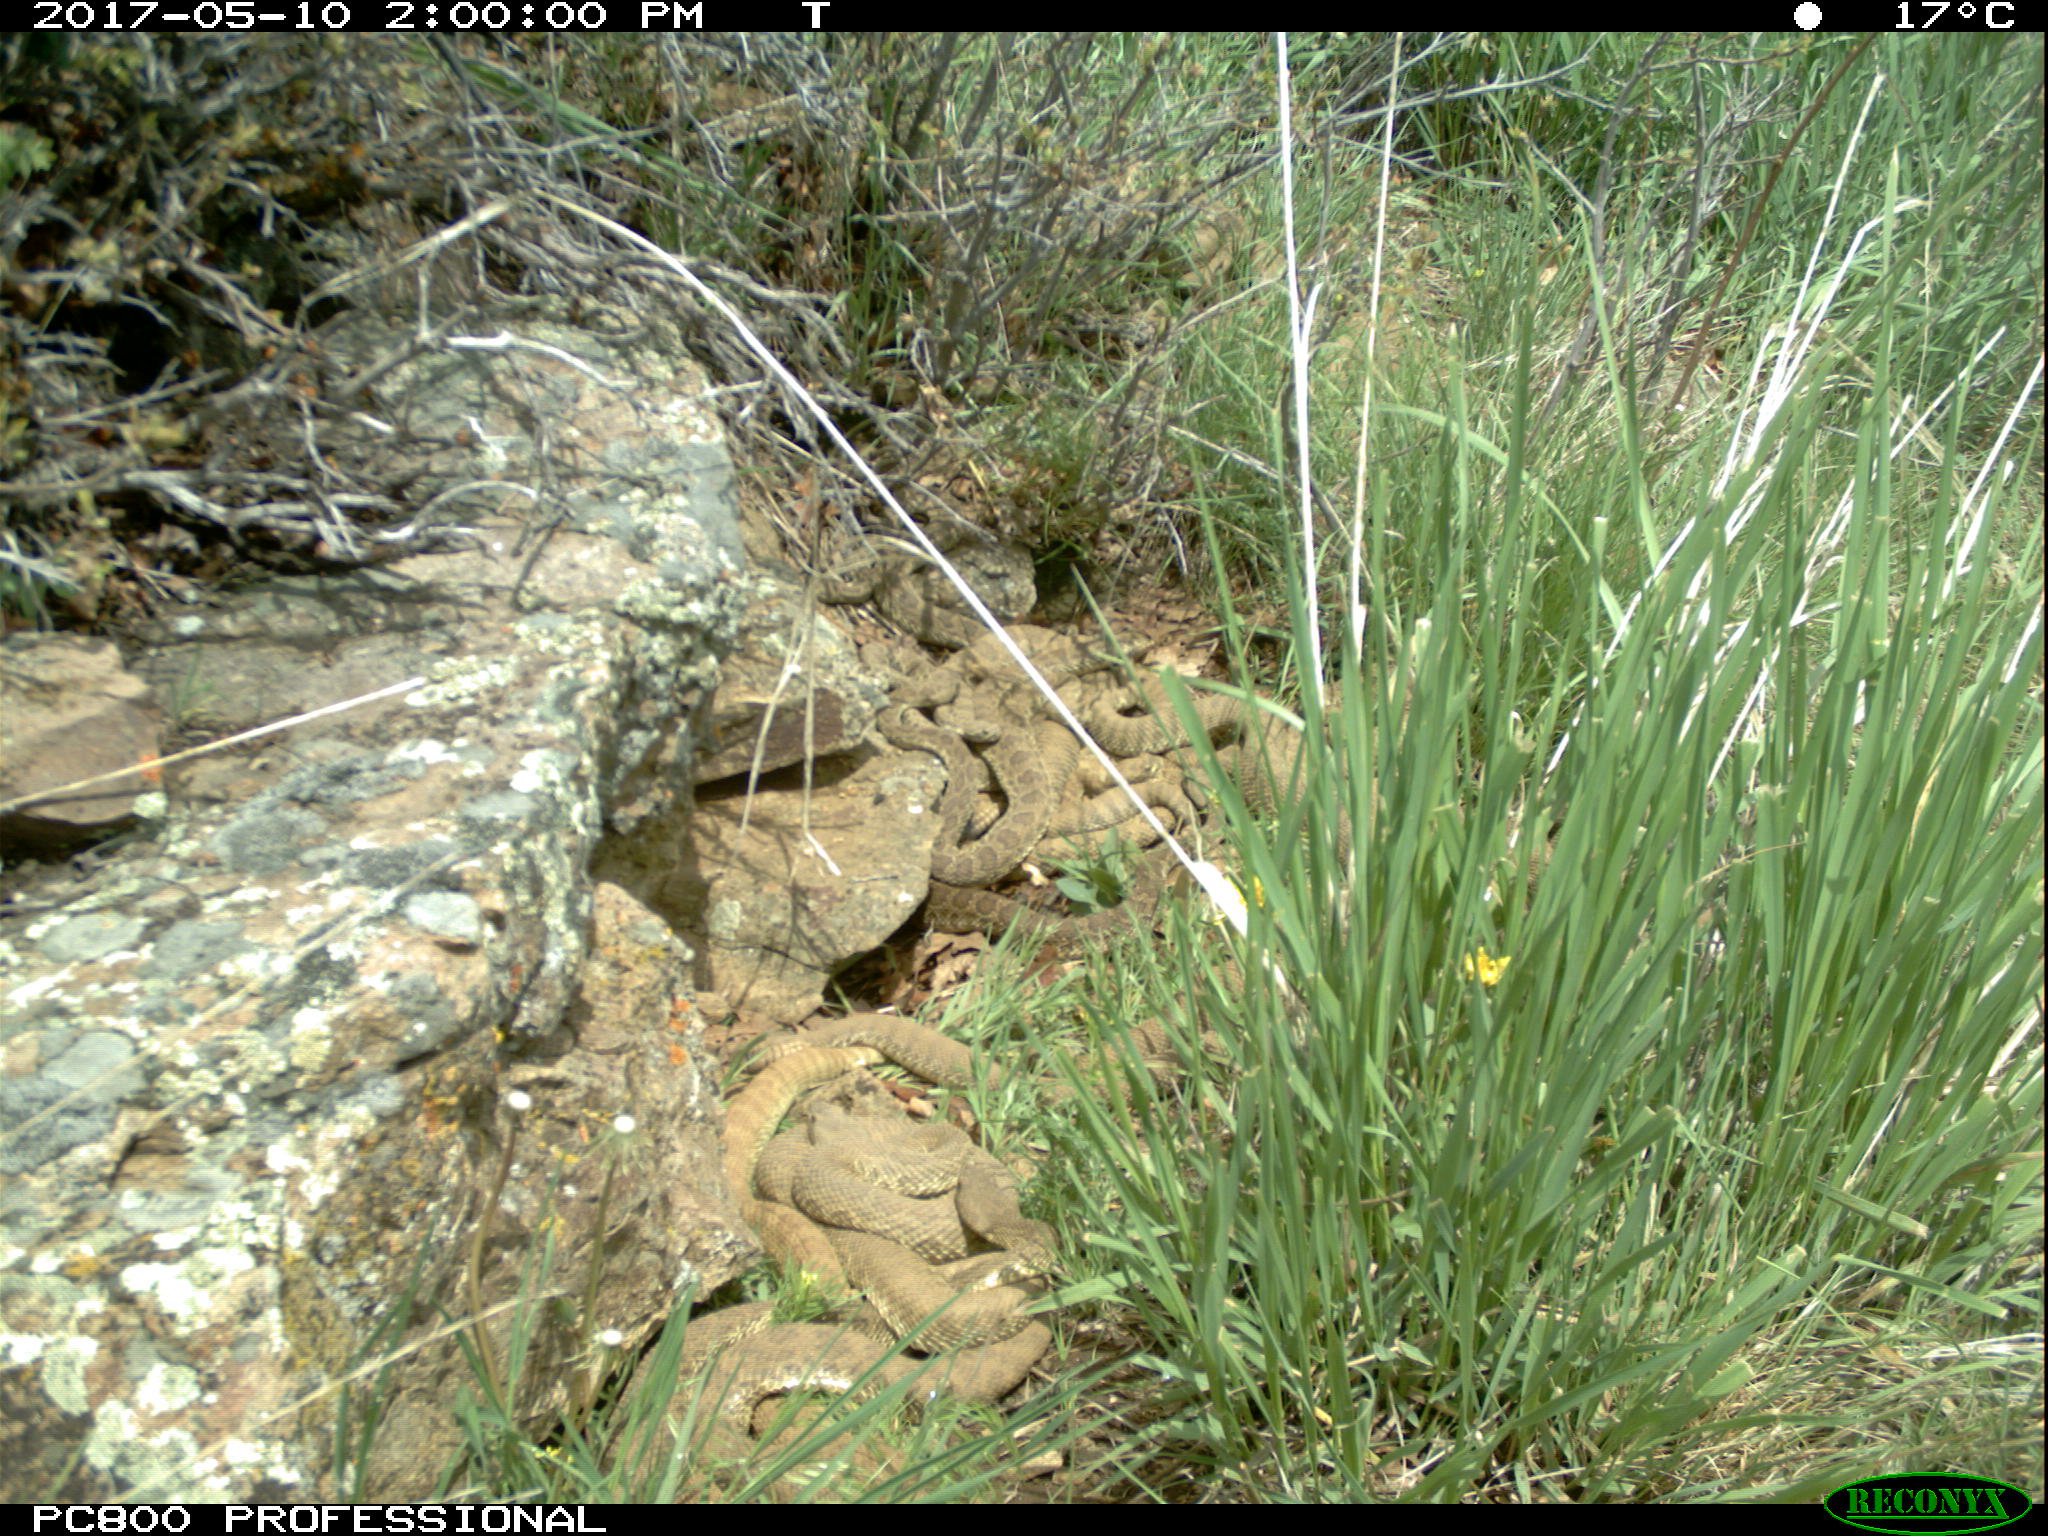snake: (611, 1313, 1059, 1494), (877, 620, 1082, 889), (1071, 655, 1322, 850), (830, 1231, 1063, 1409), (718, 1018, 1221, 1096), (764, 1112, 1022, 1257), (705, 1087, 842, 1326), (810, 528, 1056, 644), (911, 858, 1172, 945)
